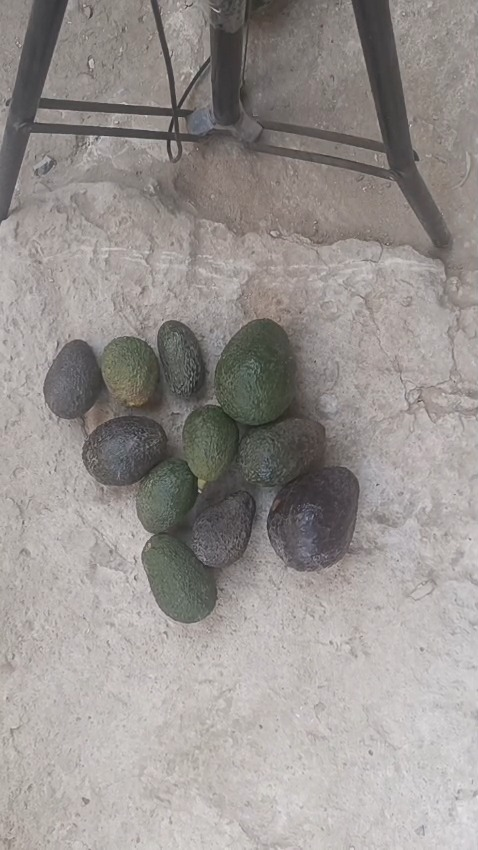Primera: (267, 468, 360, 570), (215, 320, 298, 427)
Segunda: (142, 535, 216, 624), (236, 420, 326, 492), (83, 416, 167, 489)
Tercera: (189, 491, 256, 569), (44, 339, 104, 418), (138, 460, 198, 536), (182, 405, 239, 481), (102, 335, 161, 408), (158, 320, 208, 401)
